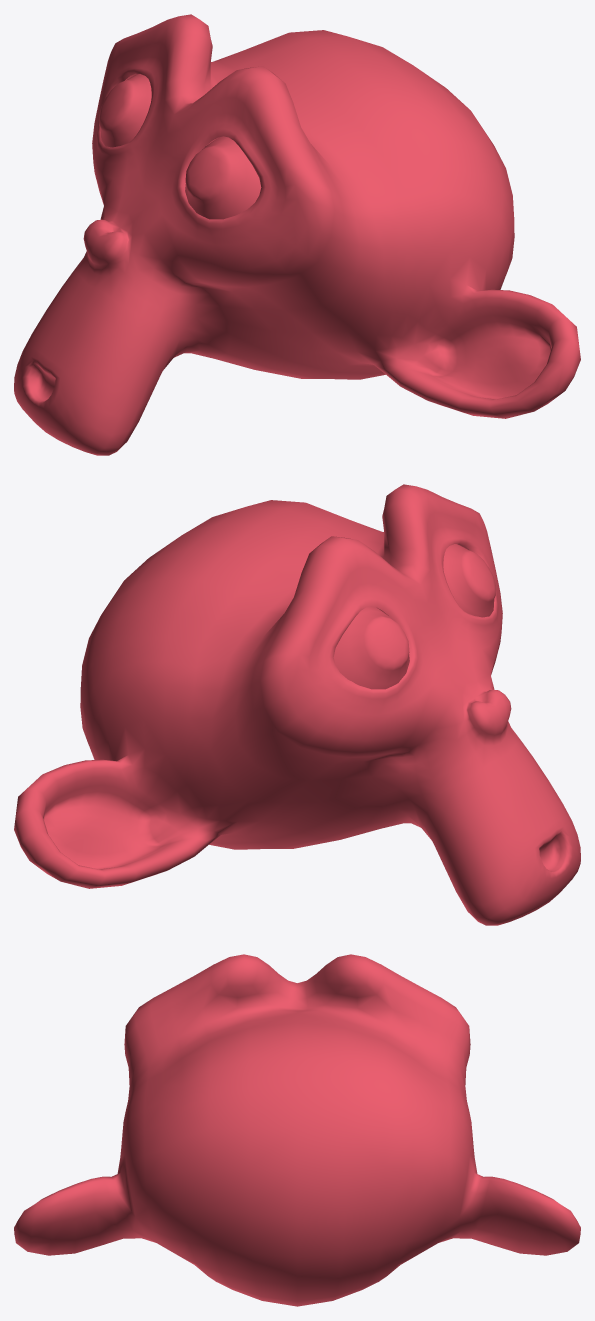
The model's file is monkey.glb.
3 views of the same model, one above another, from view 1: azimuth 30°, elevation 25°; view 2: azimuth 150°, elevation 25°; view 3: azimuth 270°, elevation 25° (orthographic). The views are drawn at different scales.
Parts seen in each view (by area): view 1: Suzanne; view 2: Suzanne; view 3: Suzanne.
Boxes of the visible parts, x1,y1,x2,y2 form: Suzanne: [14, 14, 580, 455]; Suzanne: [14, 484, 580, 925]; Suzanne: [14, 954, 580, 1306].
Bounding box in the file's own units: 0.8091 × 0.6101 × 1.07.
